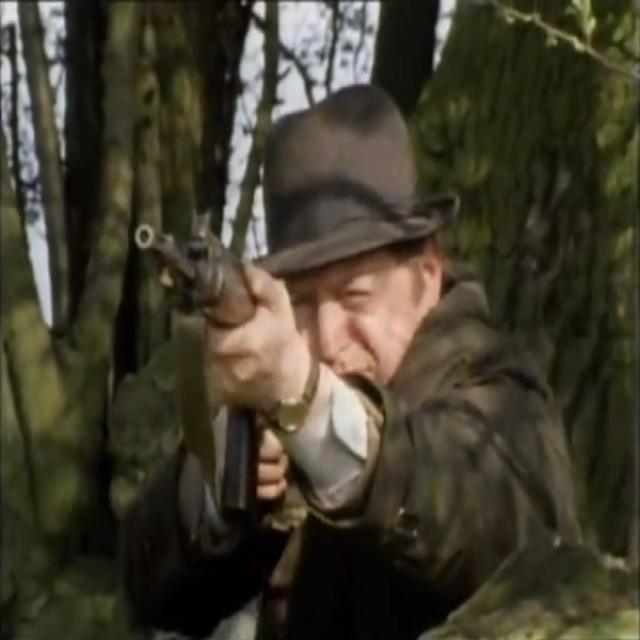rifle: (131, 204, 279, 521)
